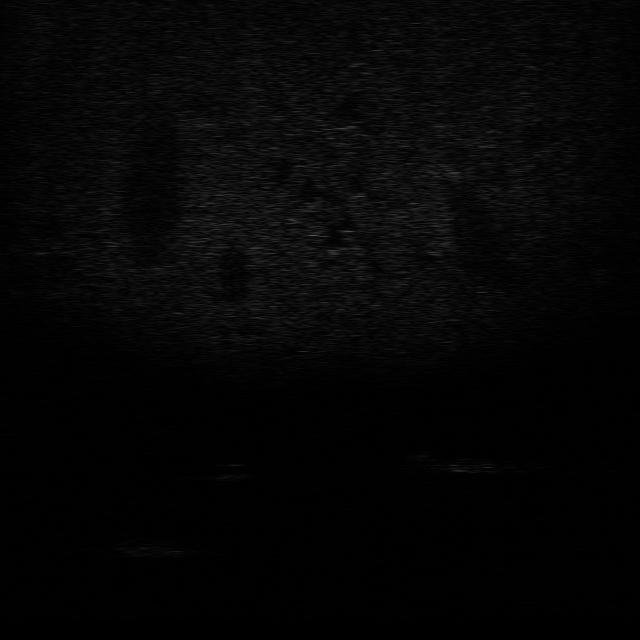ball: (208, 455, 256, 483)
circle cage: (108, 531, 192, 560)
human body: (409, 444, 540, 478)
